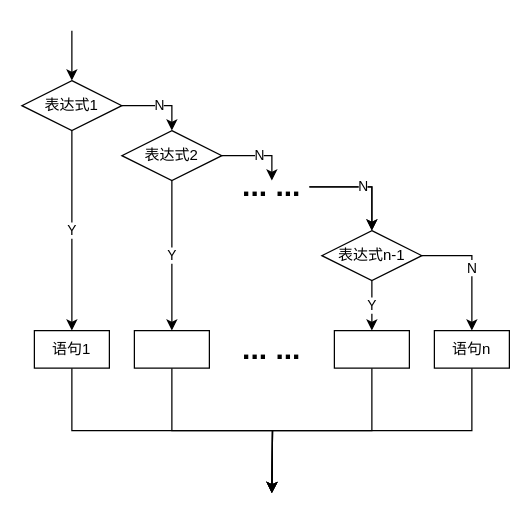
This 531x525 diagram has some shape labels left out. The centre of each missing label's shape, as x and y in pixels:
"语句2" belongs at (x=171, y=348).
"语句n-1" belongs at (x=371, y=348).
